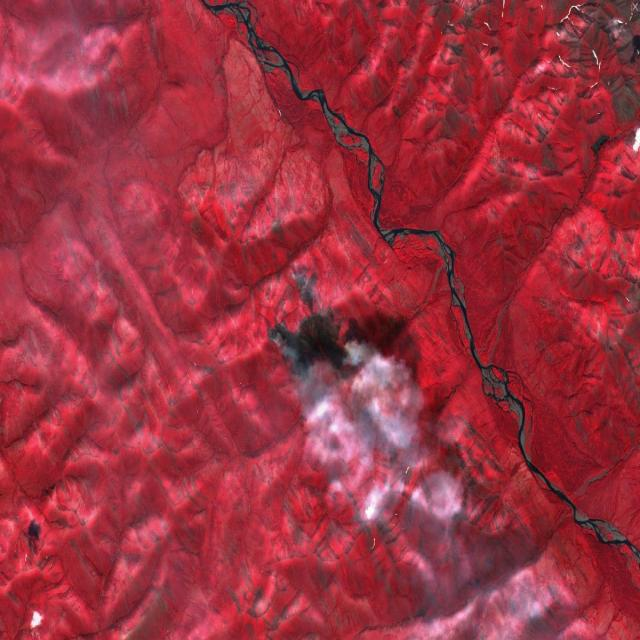fire: (263, 259, 359, 386)
